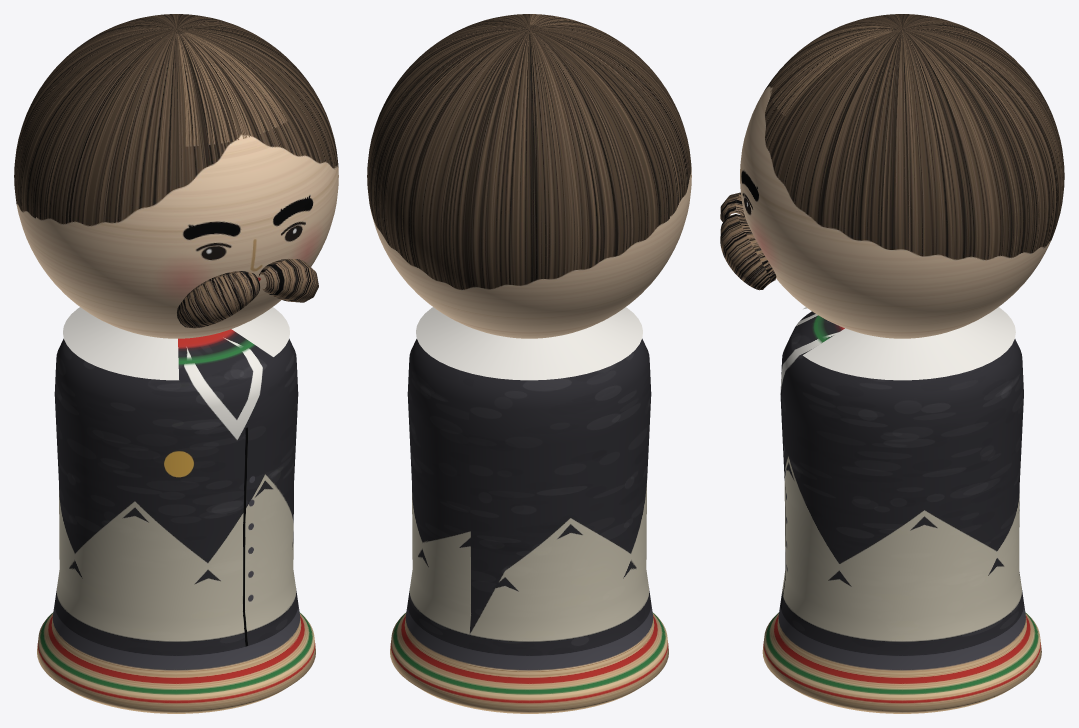
File: nietzsche.glb
The picture shows the model from 3 angles, left to right: view 1: azimuth 30°, elevation 25°; view 2: azimuth 150°, elevation 25°; view 3: azimuth 270°, elevation 25°; orthographic projection.
Visible parts, largest first — view 1: body, head, Friedrich Nietzsche; view 2: head, body, Friedrich Nietzsche; view 3: body, head, Friedrich Nietzsche.
Boxes of the visible parts, left/top/right/bottom form: body: left=37, top=329, right=315, bottom=713; head: left=14, top=14, right=338, bottom=338; Friedrich Nietzsche: left=63, top=259, right=318, bottom=380; head: left=367, top=14, right=691, bottom=338; body: left=390, top=338, right=668, bottom=713; Friedrich Nietzsche: left=416, top=307, right=642, bottom=380; body: left=762, top=311, right=1041, bottom=713; head: left=740, top=14, right=1064, bottom=338; Friedrich Nietzsche: left=720, top=192, right=1015, bottom=380.
Bounding box in the file's own units: 0.075 × 0.1605 × 0.0795.
Materials: 5 (3 with a texture image).
